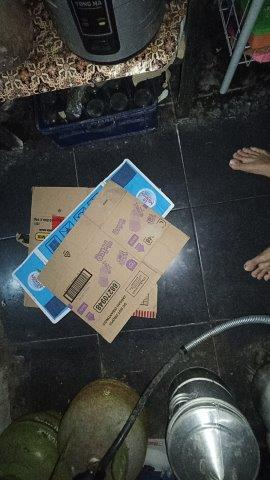kardus: (12, 159, 189, 343)
